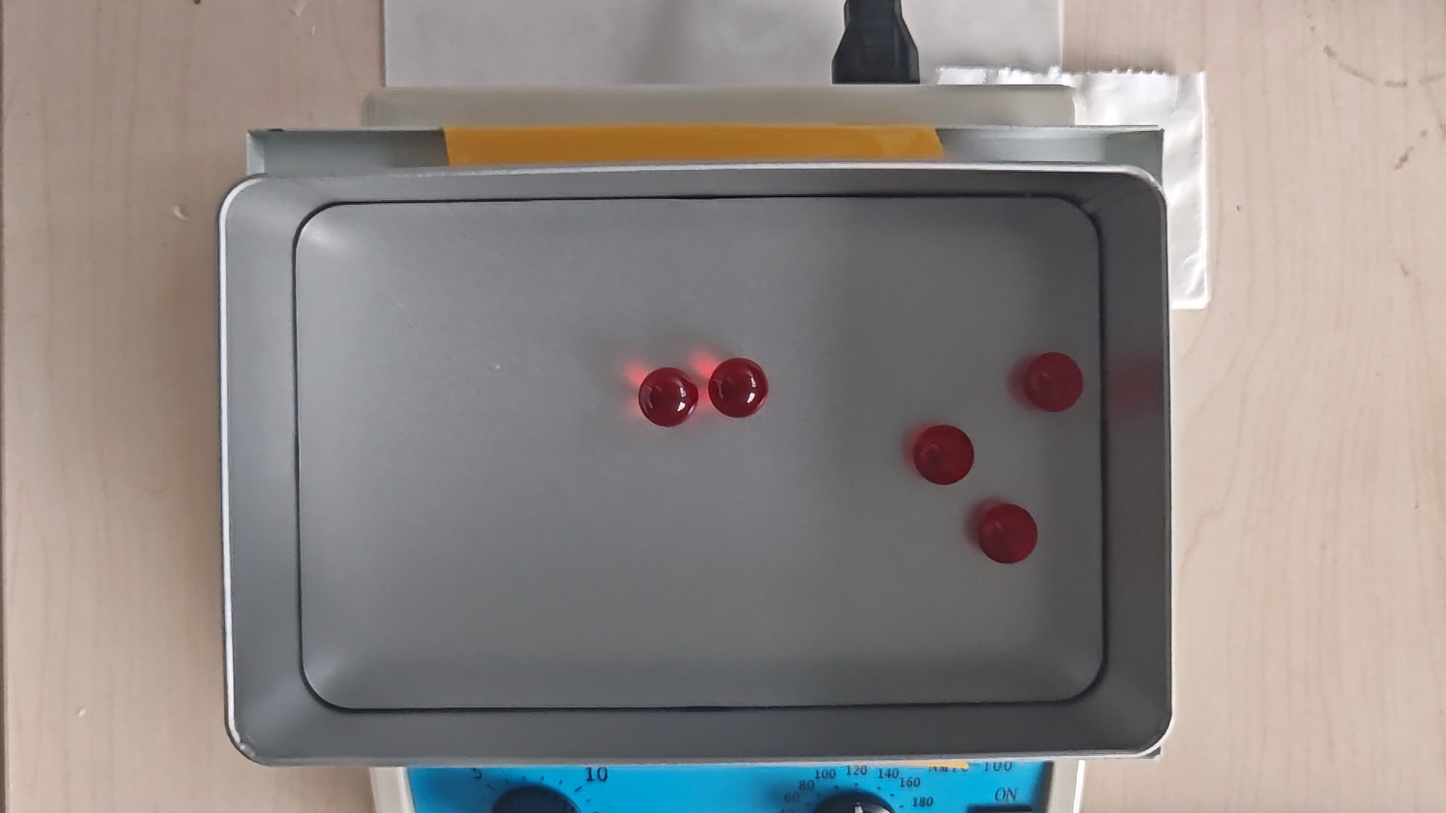ball: (914, 424, 975, 485), (978, 503, 1037, 566), (710, 358, 767, 418), (1027, 353, 1084, 413), (641, 367, 695, 429)
container: (290, 198, 1103, 706)
